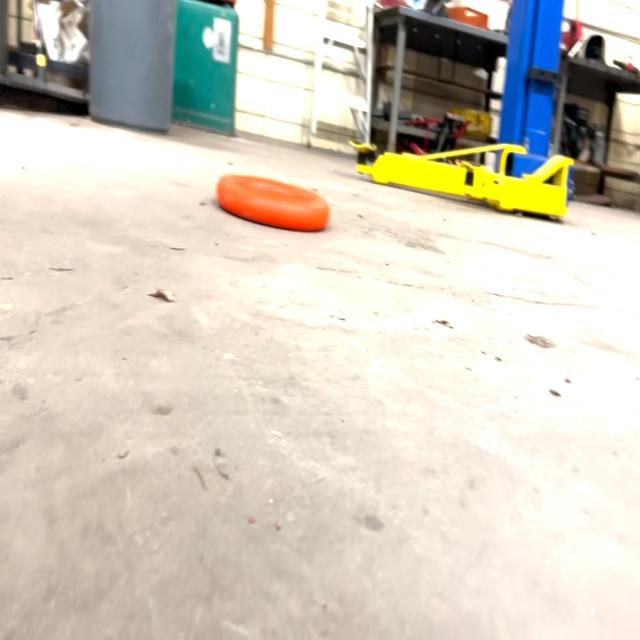note: (216, 162, 331, 240)
